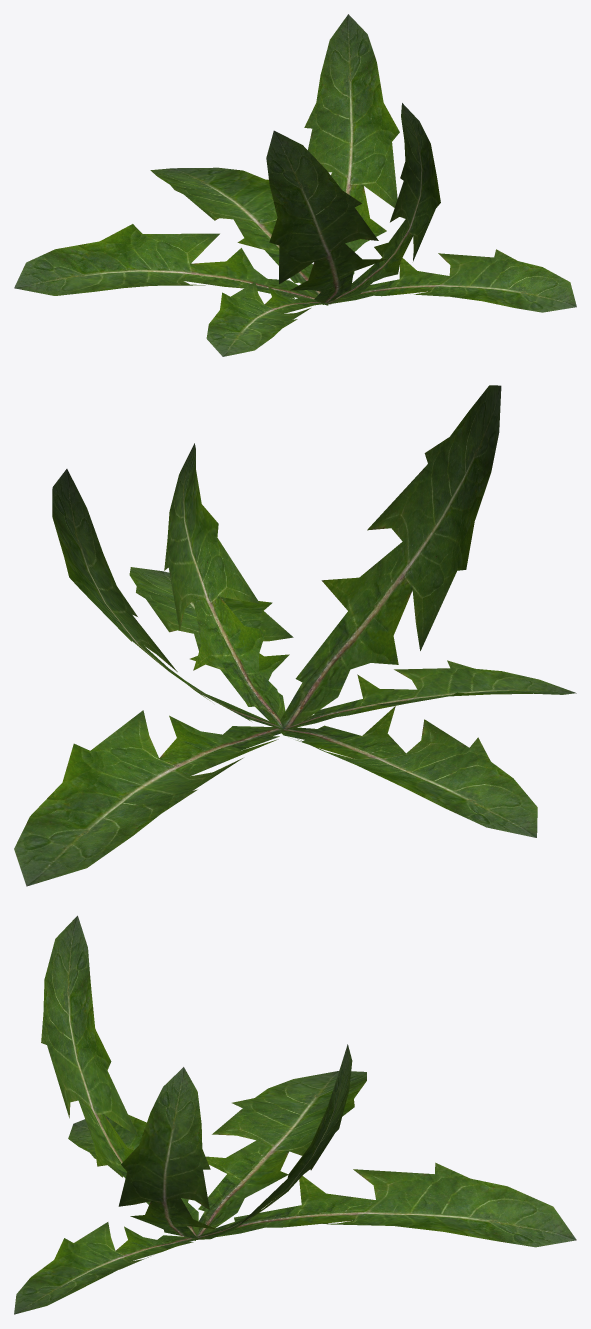
Rendered from weed.glb.
3 views of the same model, one above another, from view 1: azimuth 30°, elevation 25°; view 2: azimuth 150°, elevation 25°; view 3: azimuth 270°, elevation 25° (orthographic). The views are drawn at different scales.
Parts seen in each view (by area): view 1: Dandelion; view 2: Dandelion; view 3: Dandelion.
Boxes of the visible parts, bbox=[...] form: Dandelion: bbox=[14, 14, 576, 356]; Dandelion: bbox=[14, 385, 576, 886]; Dandelion: bbox=[14, 915, 576, 1314].
Bounding box in the file's own units: 7.24 × 3.86 × 7.4.
1 material, 1 textured.
